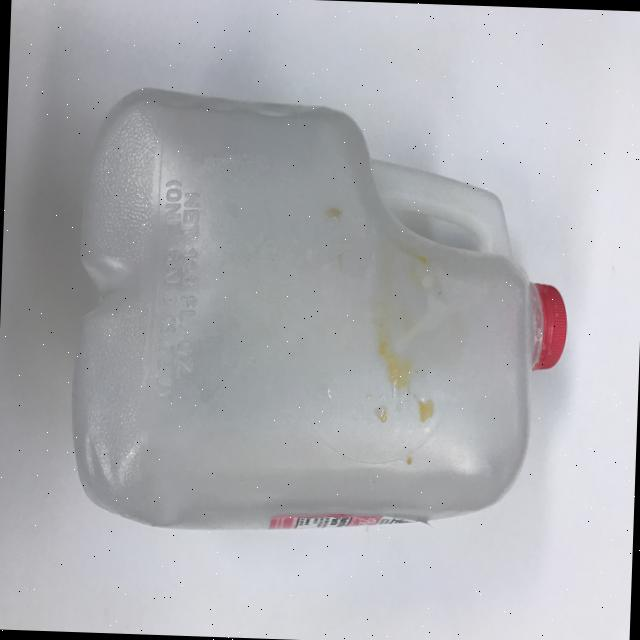plastic: (66, 83, 575, 541)
